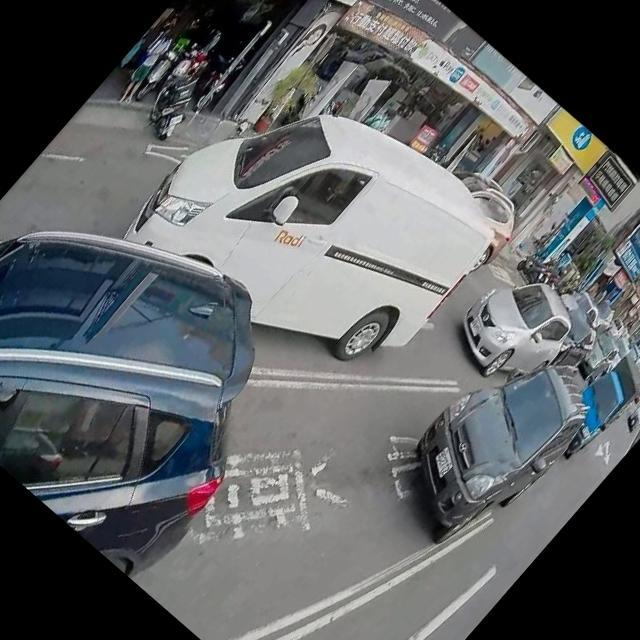person: (102, 20, 180, 106), (180, 25, 224, 73), (356, 101, 384, 130), (372, 105, 397, 130)
